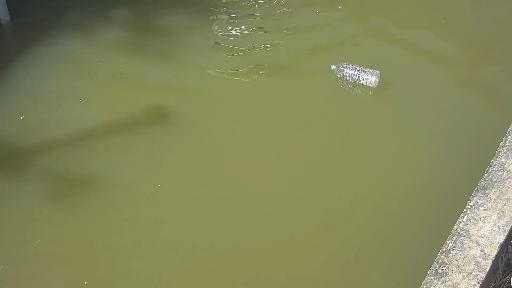plastic: (325, 55, 387, 104)
